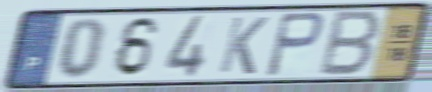0: (56, 16, 109, 82)
4: (163, 13, 208, 80)
6: (110, 16, 160, 80)
B: (315, 9, 385, 79)
K: (215, 15, 271, 77)
P: (262, 10, 326, 79)
